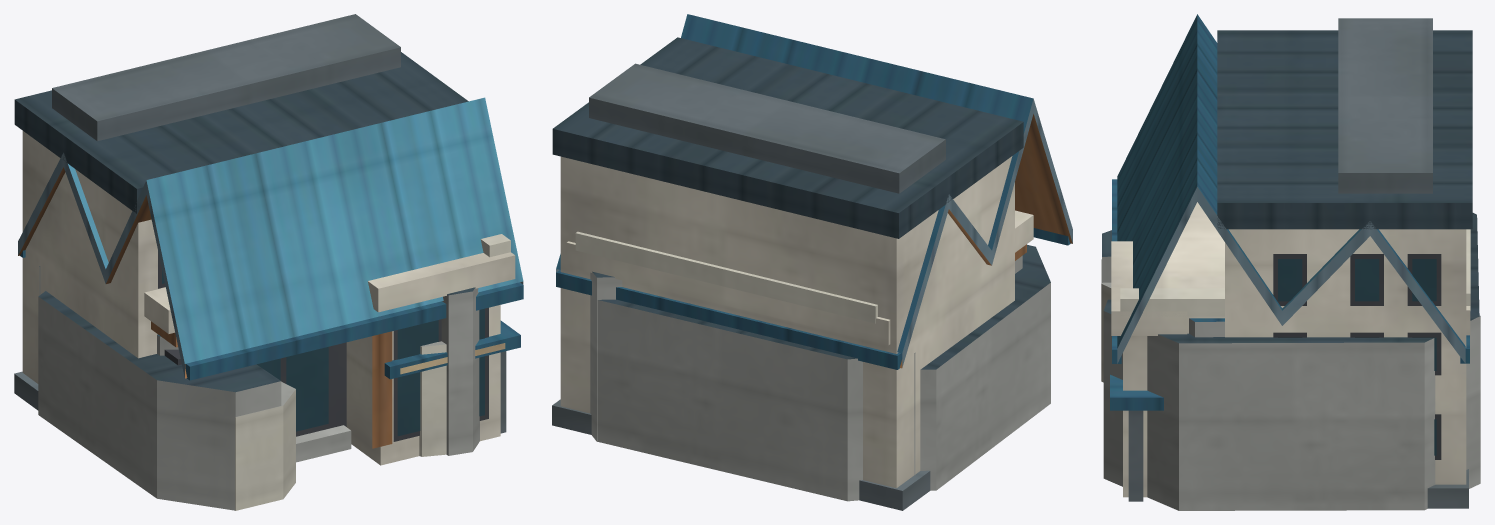
Rendered from modern-buildings.glb.
3 renders of one model, left to right at view 1: azimuth 30°, elevation 25°; view 2: azimuth 150°, elevation 25°; view 3: azimuth 270°, elevation 25°, orthographic. The views are drawn at different scales.
Visible parts, largest first — view 1: market, barracks, fortress, house; view 2: barracks, fortress, market, house; view 3: barracks, fortress, market, house.
Part boxes in pixels (bbox=[...]): market: bbox=[18, 97, 523, 380]; barracks: bbox=[14, 14, 520, 433]; fortress: bbox=[38, 266, 479, 510]; house: bbox=[144, 234, 515, 465]; barracks: bbox=[552, 37, 1023, 510]; fortress: bbox=[590, 244, 1050, 501]; market: bbox=[556, 14, 1072, 369]; house: bbox=[566, 210, 1033, 345]; barracks: bbox=[1110, 18, 1472, 508]; fortress: bbox=[1101, 213, 1480, 510]; market: bbox=[1112, 14, 1469, 363]; house: bbox=[1111, 202, 1470, 497].
Size of the model in its own units: 0.978 by 0.831 by 0.875.
1 material, 1 textured.
